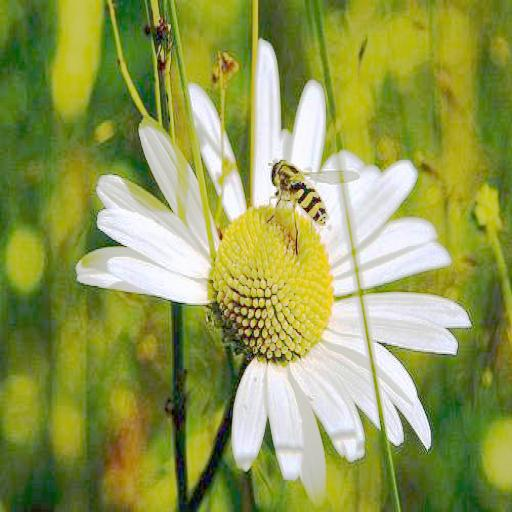daisy: (92, 63, 457, 480)
